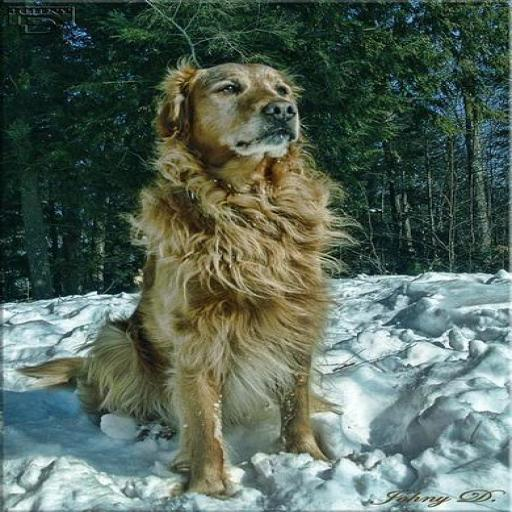dog_face: (157, 58, 310, 156)
